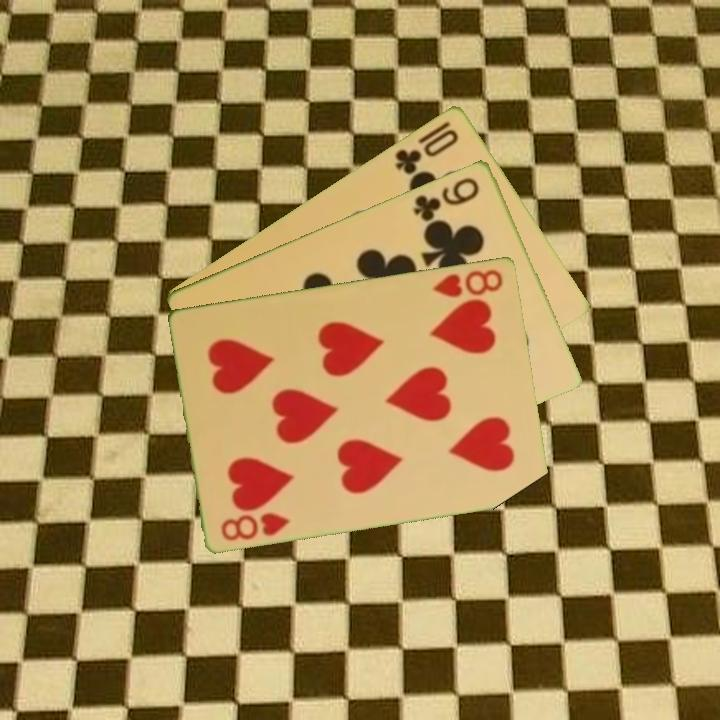10c: (391, 125, 462, 177)
8h: (217, 508, 294, 543), (430, 265, 506, 300)
9c: (409, 173, 483, 224)
